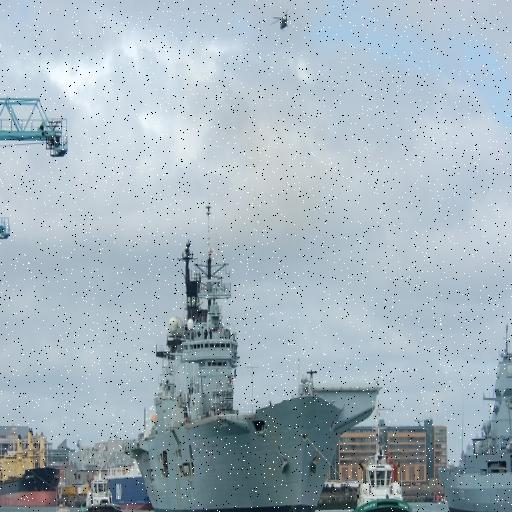Portanaves: (123, 198, 386, 512)
